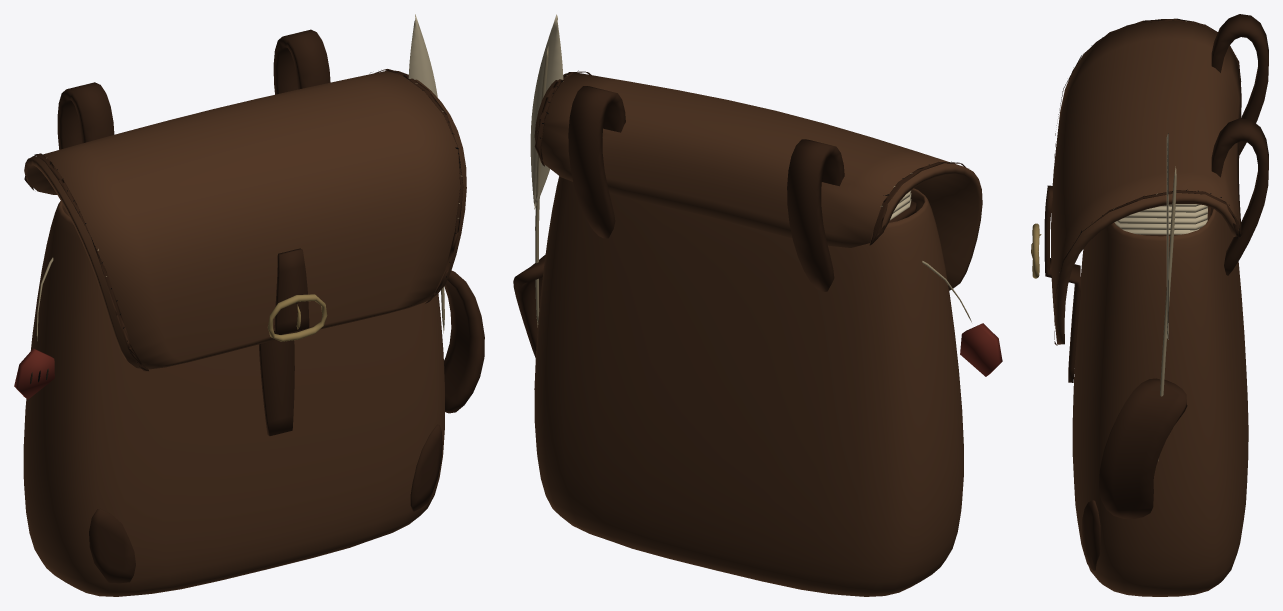
The model's file is frontier_supply_officer_kit_lod1.glb.
3 renders of one model, left to right at view 1: azimuth 30°, elevation 25°; view 2: azimuth 150°, elevation 25°; view 3: azimuth 270°, elevation 25°, orthographic. The views are drawn at different scales.
Parts seen in each view (by area): view 1: frontier_supply_officer_kit_lod1; view 2: frontier_supply_officer_kit_lod1; view 3: frontier_supply_officer_kit_lod1.
Part boxes in pixels (<box>): frontier_supply_officer_kit_lod1: <box>14,14,484,596</box>; frontier_supply_officer_kit_lod1: <box>513,14,1002,596</box>; frontier_supply_officer_kit_lod1: <box>1031,14,1268,596</box>.
Size of the model in its own units: 0.4047 by 0.4101 by 0.1833.
1 material, 1 textured.
